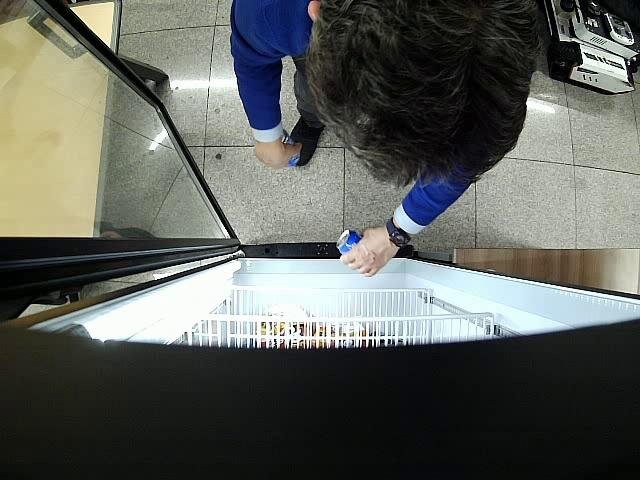00_hand: (340, 225, 399, 276), (253, 142, 302, 167)
13_pocariSweat: (282, 129, 299, 165), (337, 229, 360, 255)
